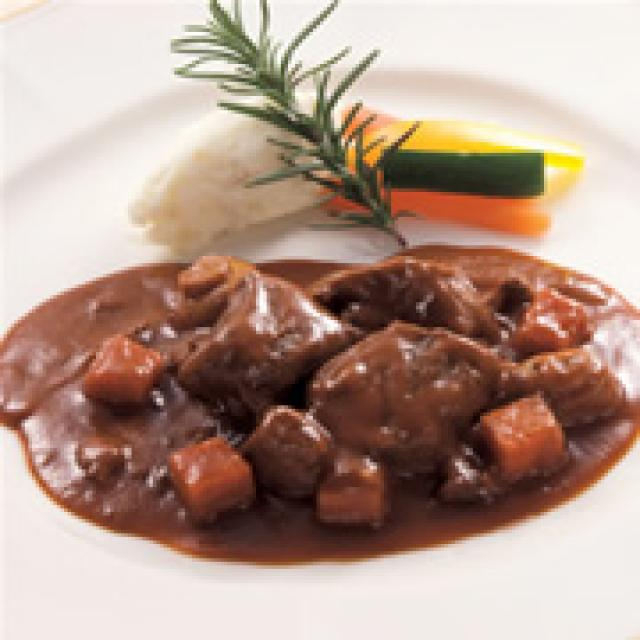汤锅炖物: (0, 224, 640, 640)
